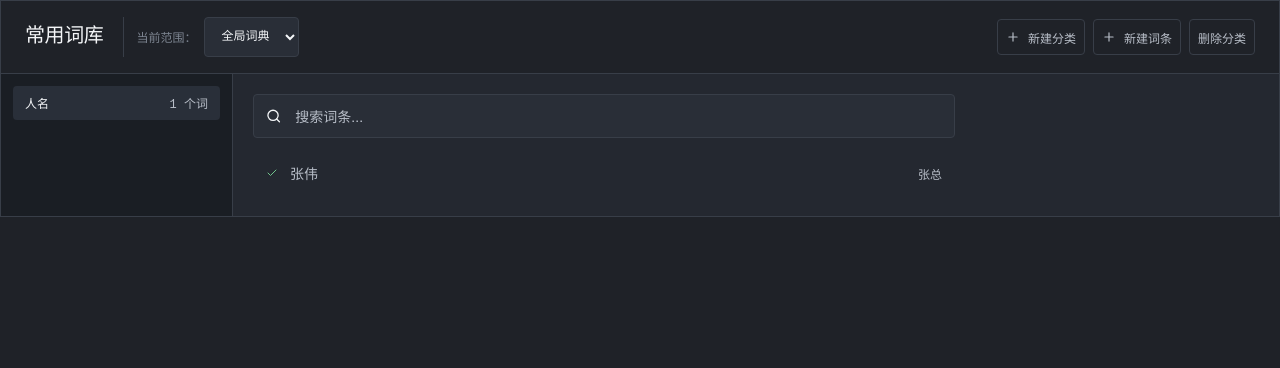
it: DictionaryView › guides the user when the selected scope has no categories
Expected: the text "人名" is shown, [25,94,49,112]
Select "项目补充" in the dropdown at point(252, 37), box [204,17,299,57]
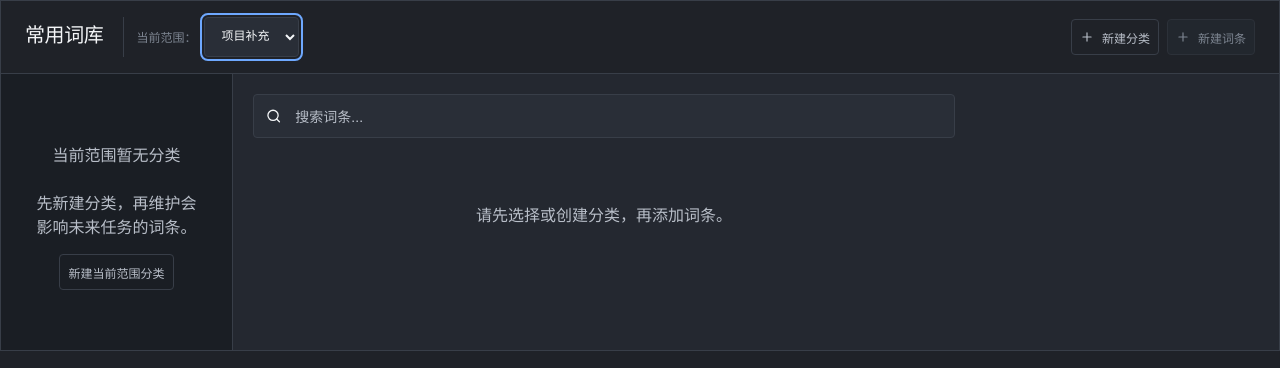
Now the text "当前范围暂无分类" is shown, box [52,142,180,166]
Now the button "新建词条" is disabled, box [1167,19,1255,55]
Click the button "新建当前范围分类".
click(116, 272)  # box [60,254,174,290]
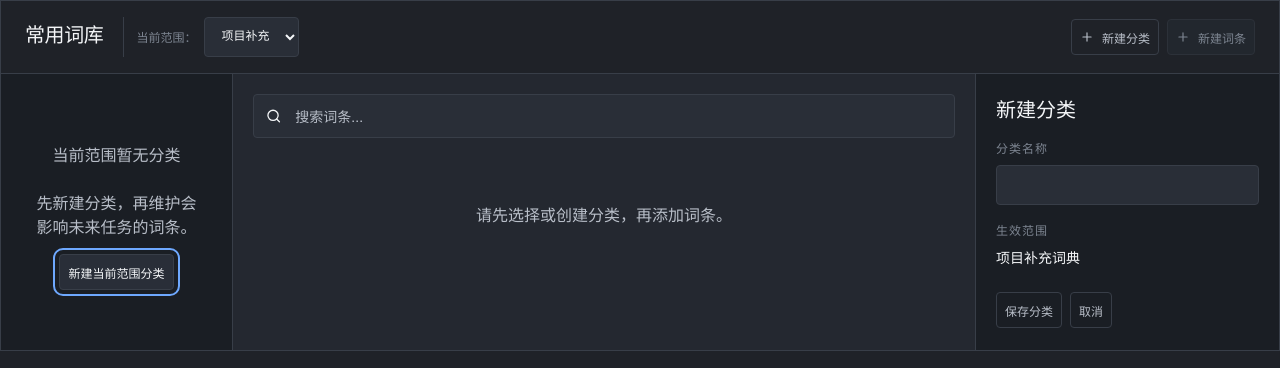
Now the heading "新建分类" is shown, box [996,94,1076,123]
